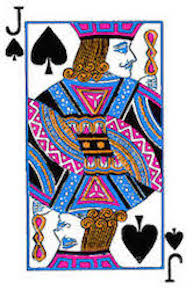JackOfSpades: (1, 1, 193, 287)
